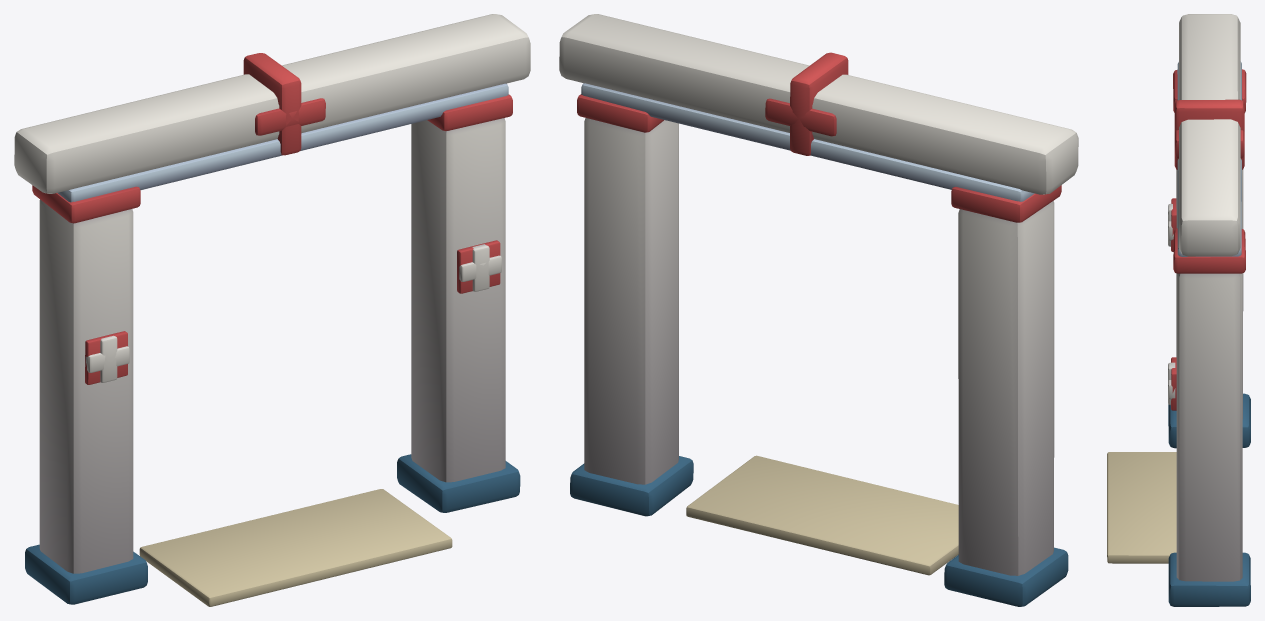
3 views of the same model, side by side, from view 1: azimuth 30°, elevation 25°; view 2: azimuth 150°, elevation 25°; view 3: azimuth 270°, elevation 25° (orthographic). The views are drawn at different scales.
Parts seen in each view (by area): view 1: gate_94ab2aa9; view 2: gate_94ab2aa9; view 3: gate_94ab2aa9.
Part boxes in pixels (<box>): gate_94ab2aa9: <box>14,14,530,606</box>; gate_94ab2aa9: <box>559,14,1078,606</box>; gate_94ab2aa9: <box>1107,14,1250,606</box>.
Bounding box in the file's own units: 4.81 × 4.41 × 1.4.
